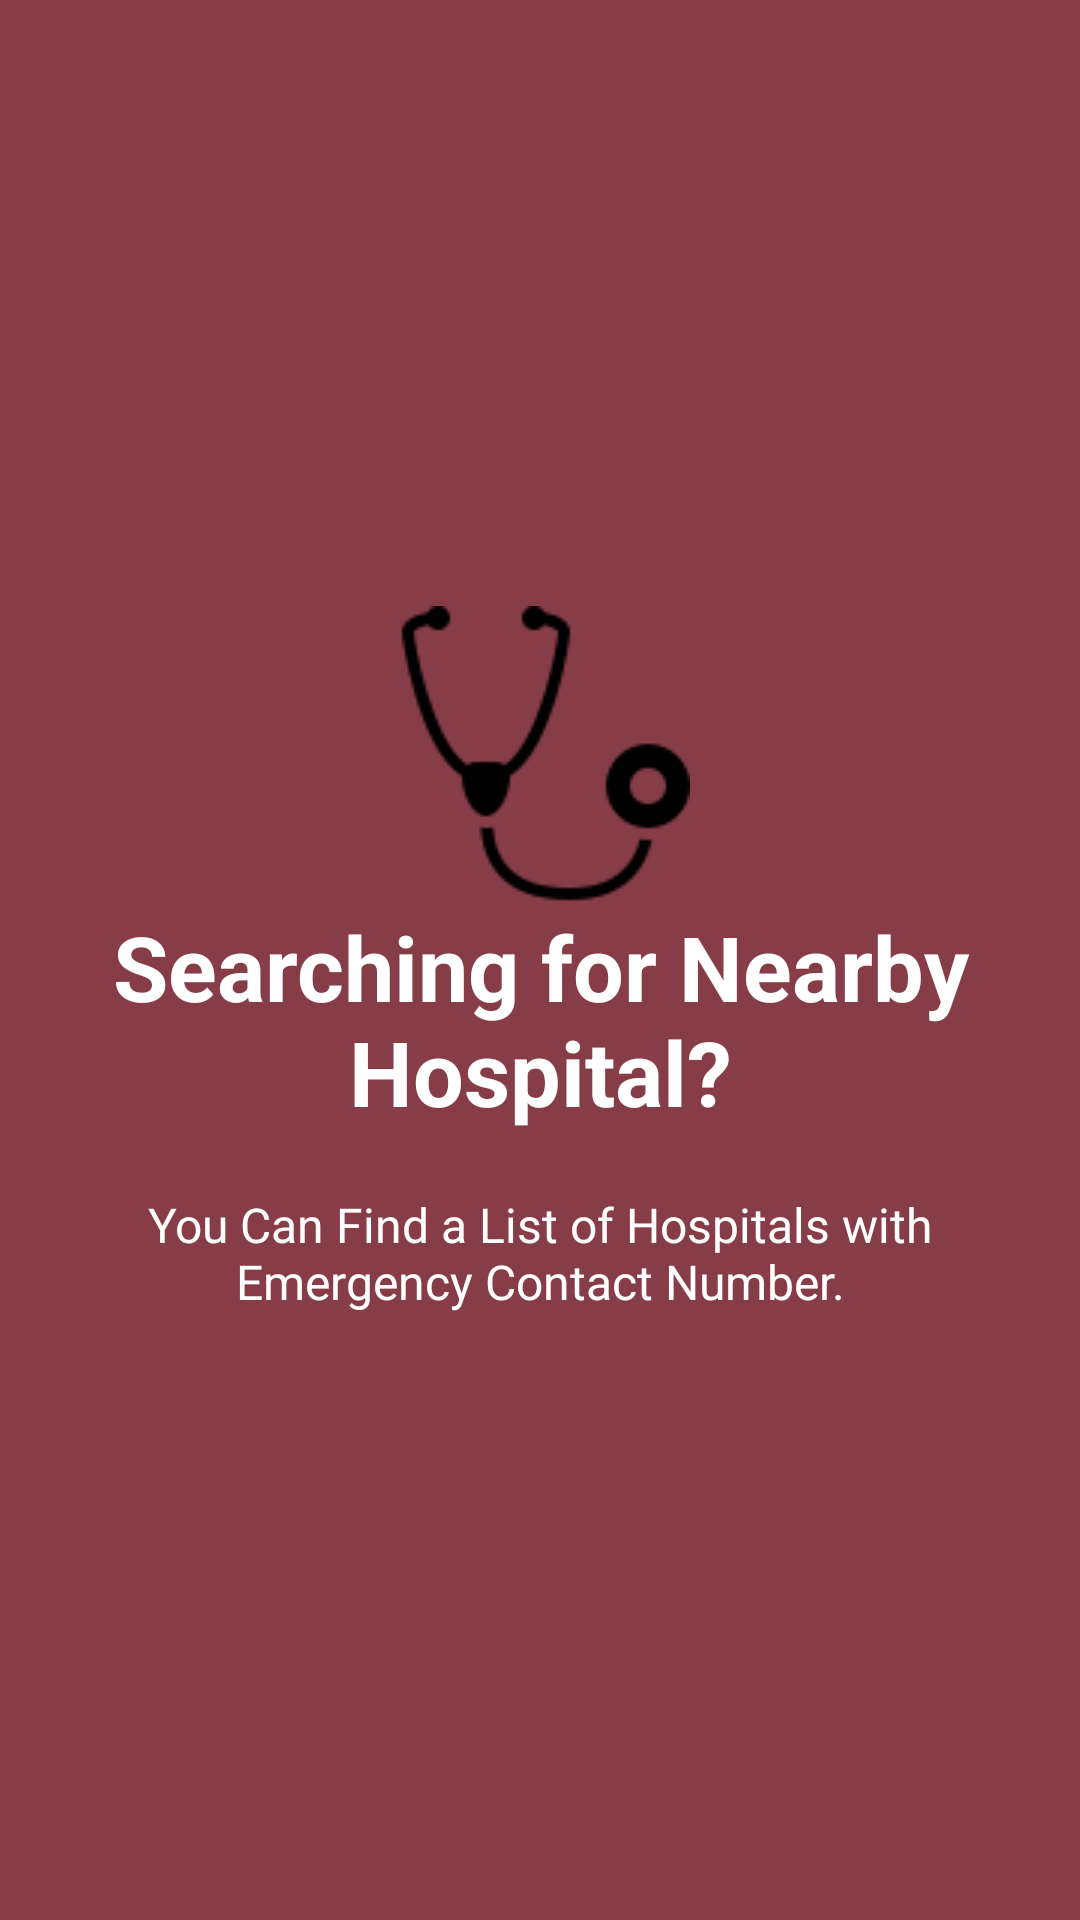

Named icons in this screenshot (1080px×1920px) and their centers, (x=x, y=y):
sthe: (x=545, y=753)
